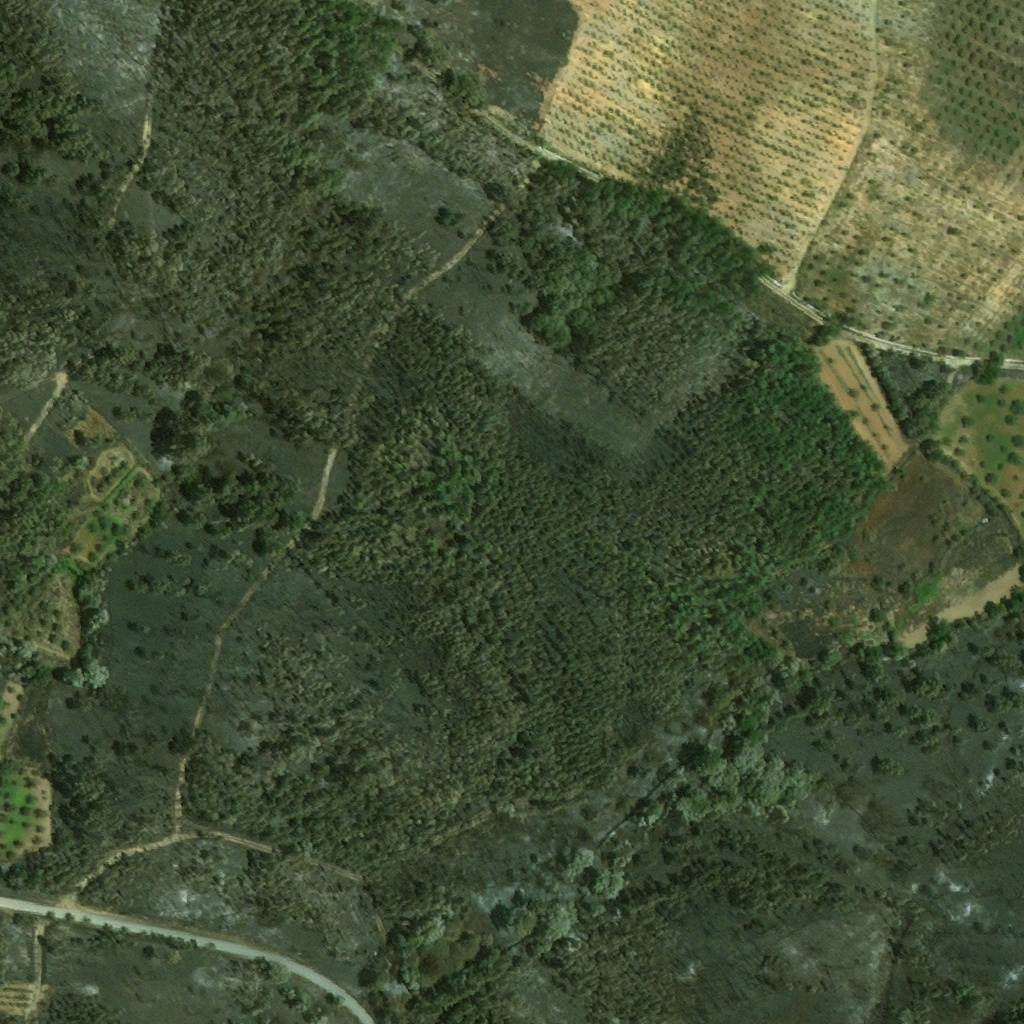0 no-damage: (982, 517, 989, 526)
